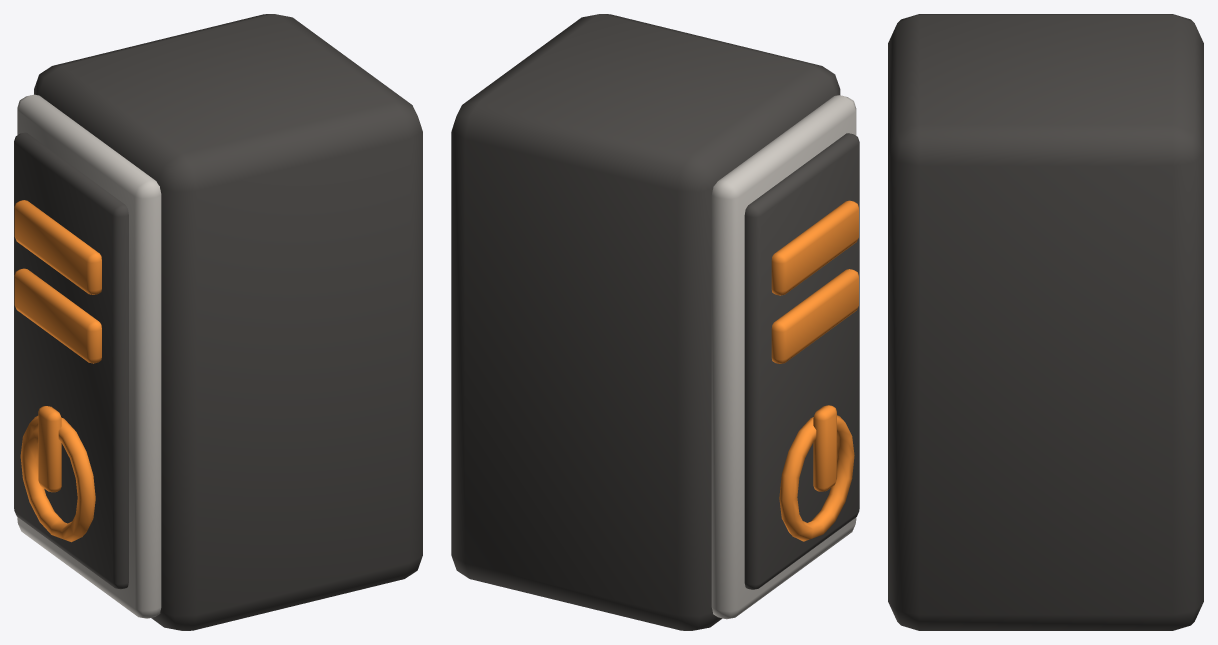
The model's file is gabinete.fbx.
3 views of the same model, side by side, from view 1: azimuth 30°, elevation 25°; view 2: azimuth 150°, elevation 25°; view 3: azimuth 270°, elevation 25° (orthographic). The views are drawn at different scales.
Parts seen in each view (by area): view 1: Gabinete, Painel_Frontal, Moldura_Gabinete, Botao_Power, Barra_Superior_02, Barra_Superior_01, Haste_Power; view 2: Gabinete, Painel_Frontal, Moldura_Gabinete, Botao_Power, Barra_Superior_02, Barra_Superior_01, Haste_Power; view 3: Gabinete.
Part boxes in pixels (<box>): Gabinete: <box>34,14,422,630</box>; Painel_Frontal: <box>14,132,128,589</box>; Moldura_Gabinete: <box>17,94,161,618</box>; Botao_Power: <box>20,416,95,542</box>; Barra_Superior_02: <box>14,268,101,363</box>; Barra_Superior_01: <box>14,200,101,294</box>; Haste_Power: <box>38,406,61,492</box>; Gabinete: <box>451,14,840,630</box>; Painel_Frontal: <box>744,133,859,589</box>; Moldura_Gabinete: <box>711,95,856,619</box>; Botao_Power: <box>779,415,854,541</box>; Barra_Superior_02: <box>771,269,858,363</box>; Barra_Superior_01: <box>771,200,858,295</box>; Haste_Power: <box>813,405,836,491</box>; Gabinete: <box>888,14,1203,630</box>.
Bounding box in the file's own units: 59.73 × 85.8 × 48.6.
